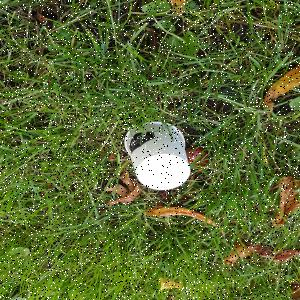Cup: (123, 121, 193, 193)
